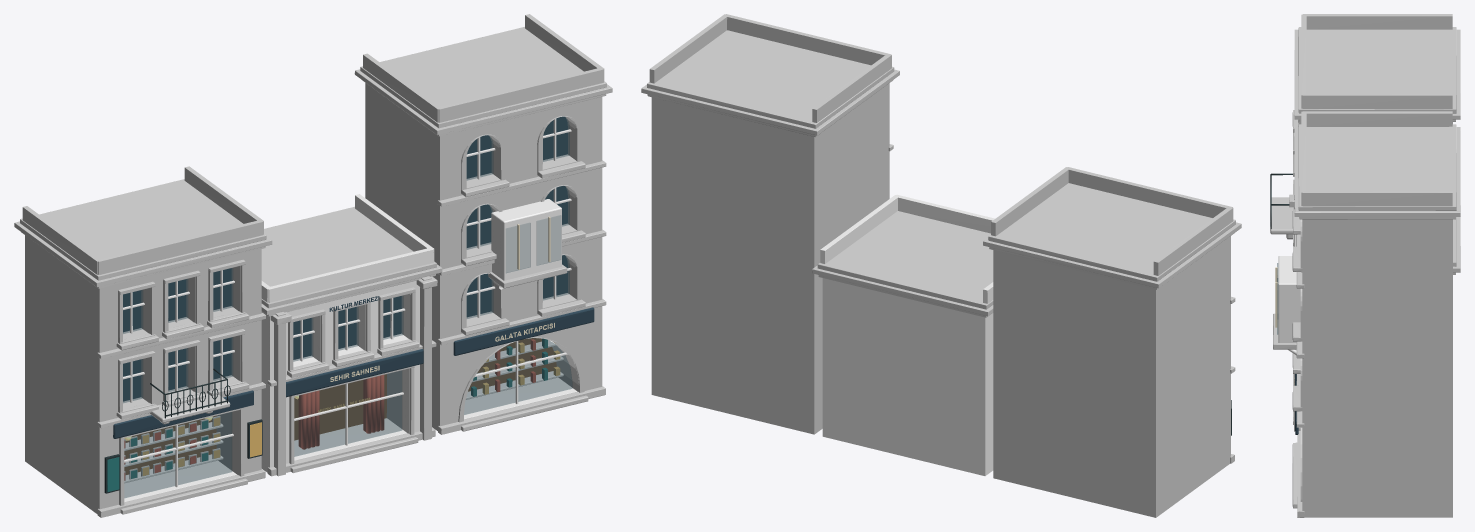
Rendered from DistrictBlock_4_1_LOD1.glb.
The picture shows the model from 3 angles, left to right: view 1: azimuth 30°, elevation 25°; view 2: azimuth 150°, elevation 25°; view 3: azimuth 270°, elevation 25°; orthographic projection.
Visible parts, largest first — view 1: RK_DistrictBlock_4_1_LOD1_LC_Lime, RK_DistrictBlock_4_1_LOD1_LC_Glass, RK_DistrictBlock_4_1_LOD1_LC_Wood, RK_DistrictBlock_4_1_LOD1_LC_Ink, RK_DistrictBlock_4_1_LOD1_LC_Brick, RK_DistrictBlock_4_1_LOD1_LC_Interior, RK_DistrictBlock_4_1_LOD1_LC_Red, RK_DistrictBlock_4_1_LOD1_LC_Gold, RK_DistrictBlock_4_1_LOD1_LC_Iron, RK_DistrictBlock_4_1_LOD1_LC_Teal, RK_DistrictBlock_4_1_LOD1_LC_Canvas; view 2: RK_DistrictBlock_4_1_LOD1_LC_Lime, RK_DistrictBlock_4_1_LOD1_LC_Brick; view 3: RK_DistrictBlock_4_1_LOD1_LC_Lime, RK_DistrictBlock_4_1_LOD1_LC_Wood.
Part boxes in pixels (box(x1,y1,x2,y2)): RK_DistrictBlock_4_1_LOD1_LC_Lime: box(14, 14, 612, 517); RK_DistrictBlock_4_1_LOD1_LC_Glass: box(123, 117, 572, 497); RK_DistrictBlock_4_1_LOD1_LC_Wood: box(123, 118, 577, 502); RK_DistrictBlock_4_1_LOD1_LC_Ink: box(113, 116, 594, 438); RK_DistrictBlock_4_1_LOD1_LC_Brick: box(261, 194, 434, 472); RK_DistrictBlock_4_1_LOD1_LC_Interior: box(124, 338, 556, 474); RK_DistrictBlock_4_1_LOD1_LC_Red: box(124, 339, 535, 480); RK_DistrictBlock_4_1_LOD1_LC_Gold: box(142, 342, 560, 475); RK_DistrictBlock_4_1_LOD1_LC_Iron: box(104, 368, 262, 493); RK_DistrictBlock_4_1_LOD1_LC_Teal: box(107, 338, 547, 492); RK_DistrictBlock_4_1_LOD1_LC_Canvas: box(182, 216, 554, 418); RK_DistrictBlock_4_1_LOD1_LC_Lime: box(641, 14, 1241, 517); RK_DistrictBlock_4_1_LOD1_LC_Brick: box(820, 194, 994, 475); RK_DistrictBlock_4_1_LOD1_LC_Lime: box(1270, 14, 1460, 517); RK_DistrictBlock_4_1_LOD1_LC_Wood: box(1278, 256, 1300, 355).
Size of the model in its own units: 19.09 by 11.47 by 6.07.
